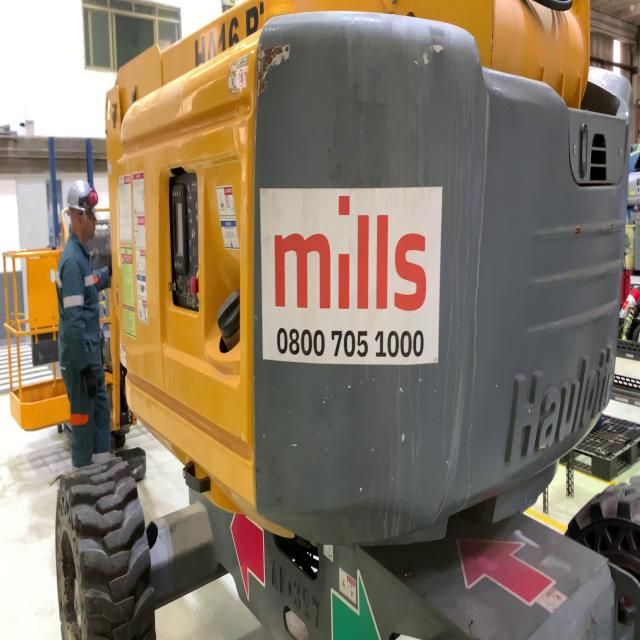Adesivos: (259, 184, 444, 366)
